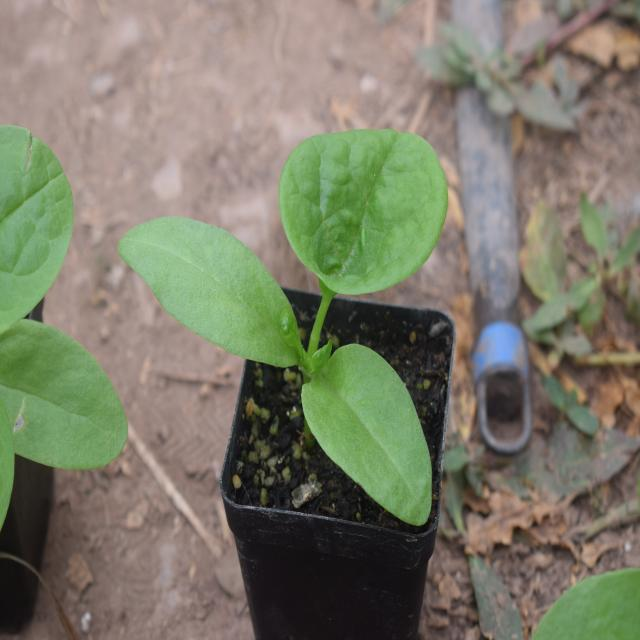Ceylon spinach: (157, 102, 444, 508)
